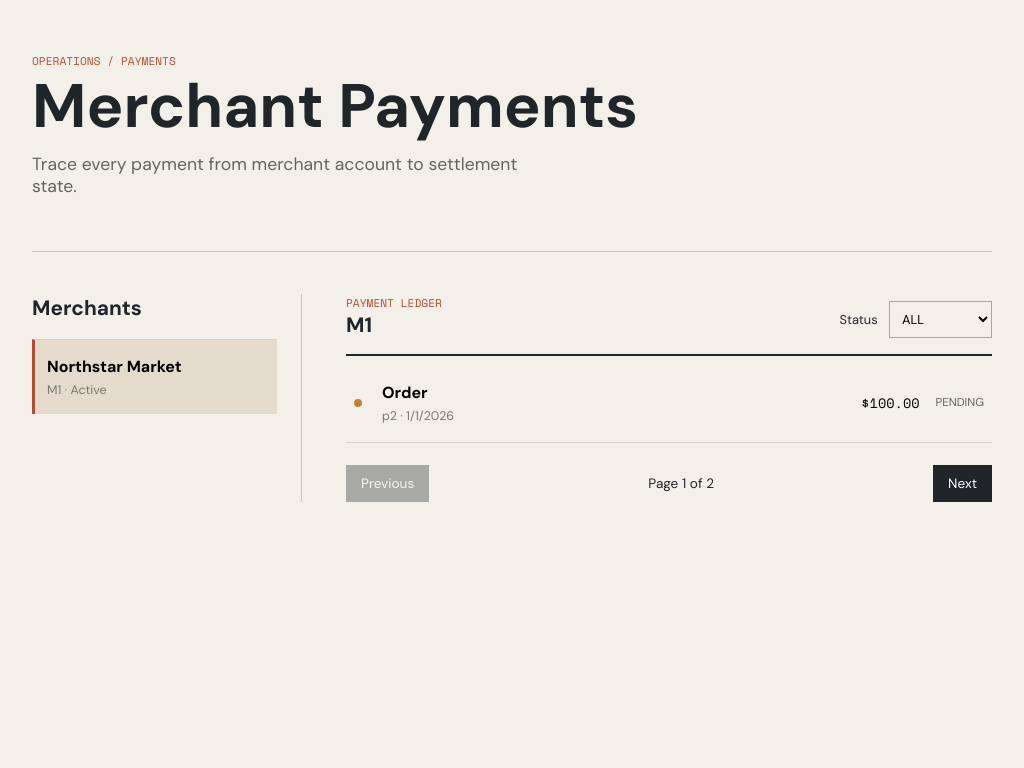
dashboard behavior › opens payment detail
Click the text "Order" at (405, 392), box [382,382,428,403]
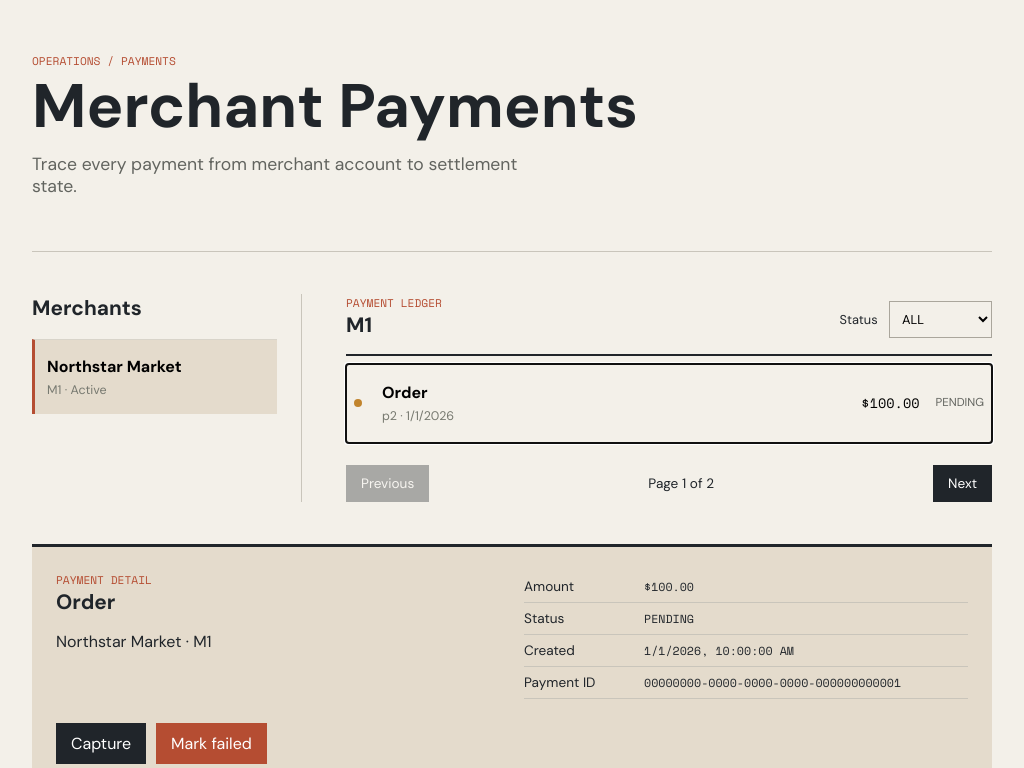
Check: the text "Payment ID" is shown, box [524,667,644,699]
